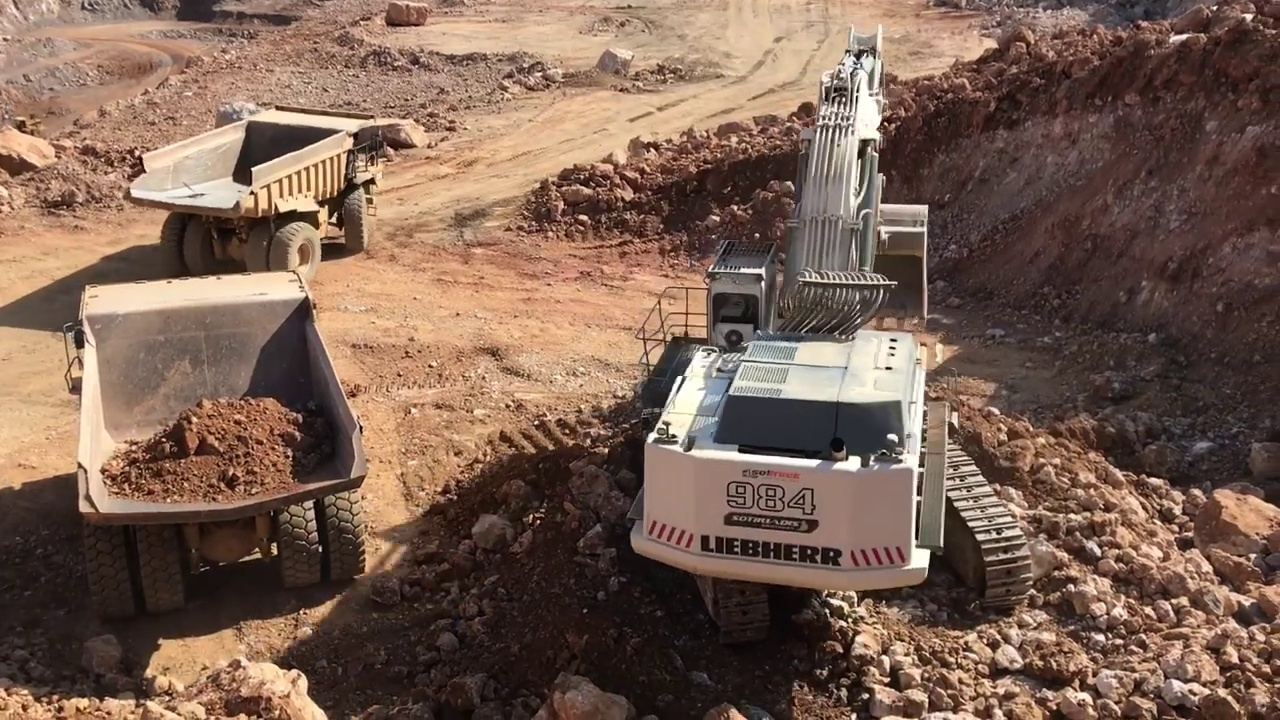dumper: (60, 269, 372, 618), (127, 104, 381, 277)
excavator: (631, 25, 1034, 616)
